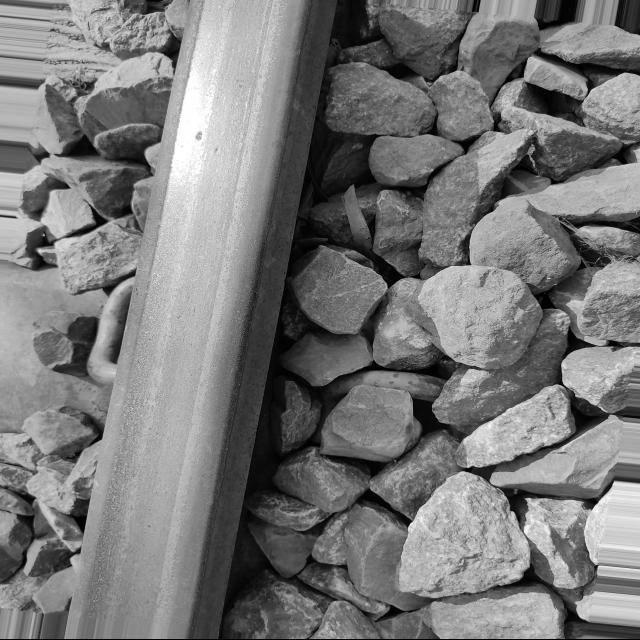squats_high: (190, 130, 207, 143)
